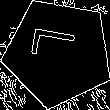L_E: (30, 33, 86, 72)
